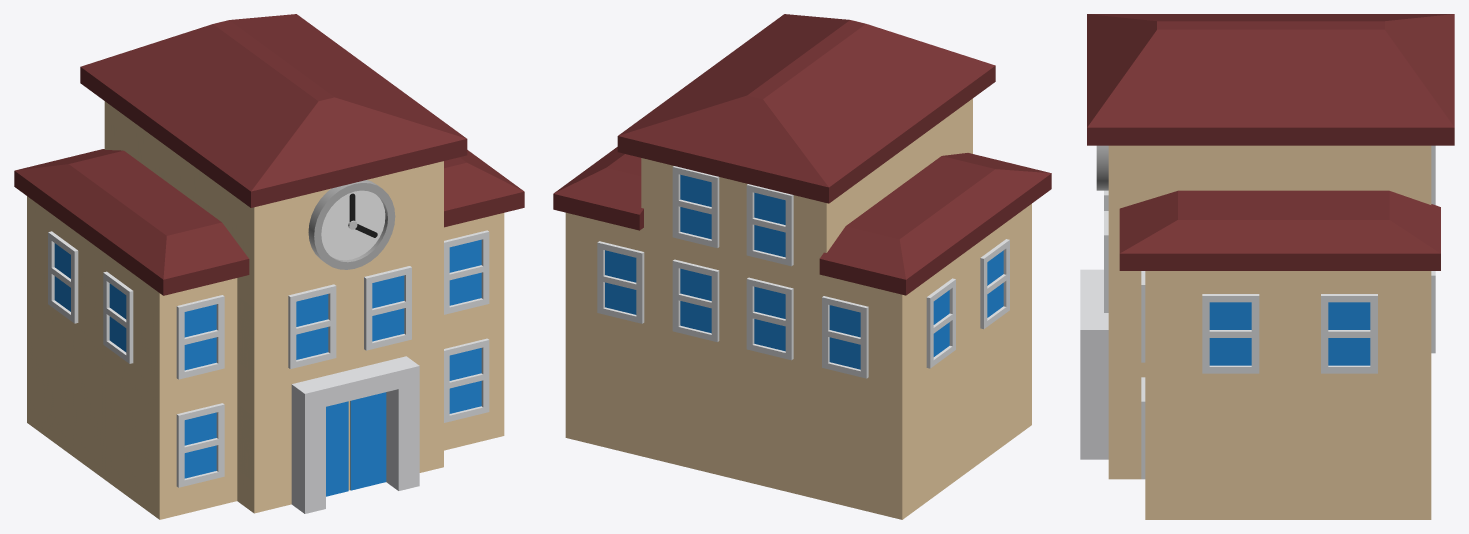
File: school.fbx
3 renders of one model, left to right at view 1: azimuth 30°, elevation 25°; view 2: azimuth 150°, elevation 25°; view 3: azimuth 270°, elevation 25°, orthographic. The views are drawn at different scales.
Visible parts, largest first — view 1: Cube.494; view 2: Cube.494; view 3: Cube.494.
Part boxes in pixels (bbox=[...]): Cube.494: bbox=[14, 14, 524, 519]; Cube.494: bbox=[553, 14, 1051, 519]; Cube.494: bbox=[1080, 14, 1454, 519].
Size of the model in its own units: 202 by 203 by 169.
Materials: 1 (1 with a texture image).
